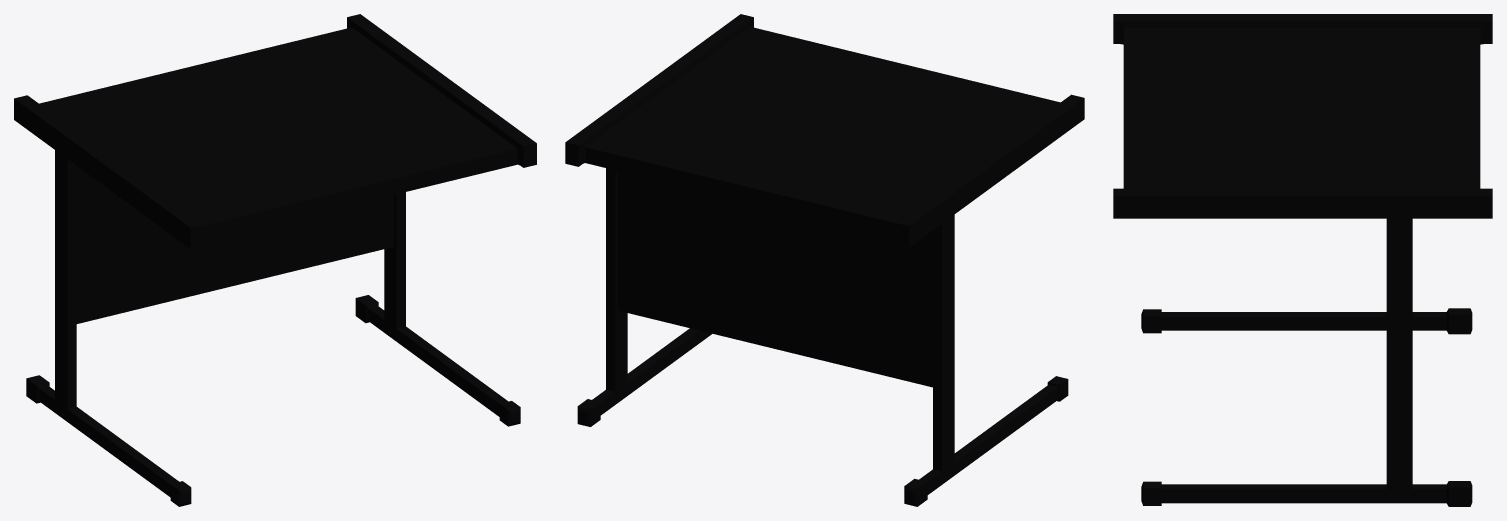
The model's file is MesinhaProfessor.fbx.
3 renders of one model, left to right at view 1: azimuth 30°, elevation 25°; view 2: azimuth 150°, elevation 25°; view 3: azimuth 270°, elevation 25°, orthographic. The views are drawn at different scales.
Parts seen in each view (by area): view 1: Cube; view 2: Cube; view 3: Cube.
Boxes of the visible parts, x1=… form: Cube: x1=14, y1=14, x2=536, y2=506; Cube: x1=565, y1=14, x2=1084, y2=506; Cube: x1=1113, y1=14, x2=1492, y2=506.
Bounding box in the file's own units: 470 × 377 × 415.
1 material, 1 textured.
